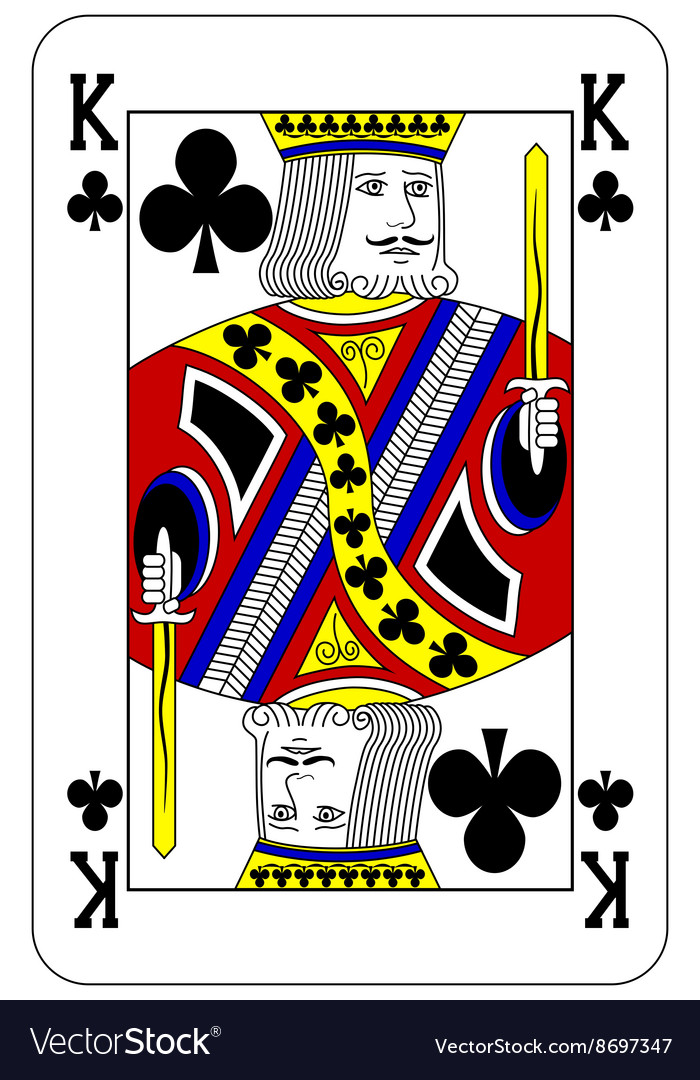king of clubs: (33, 23, 672, 992)
